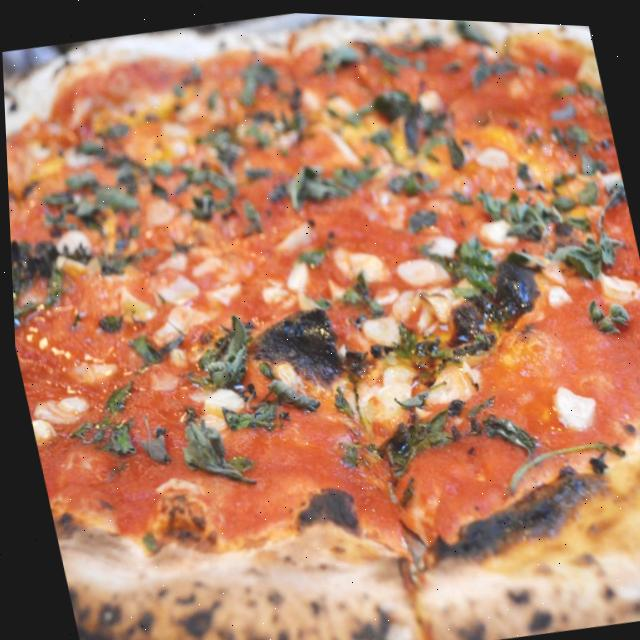black_olives: (240, 300, 344, 392), (489, 256, 540, 314)
pizza: (0, 0, 640, 640)
